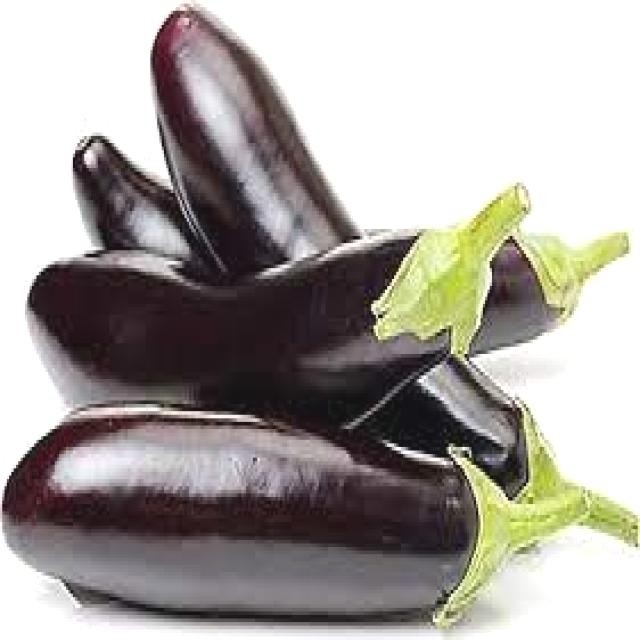eggplant: (72, 130, 578, 341), (10, 405, 502, 621), (24, 219, 488, 409)
